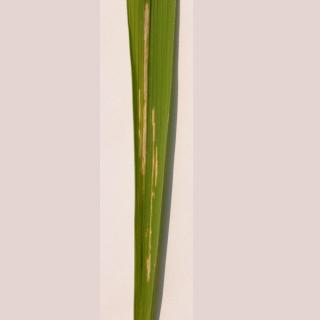Hawar-Daun: (112, 5, 195, 318)
